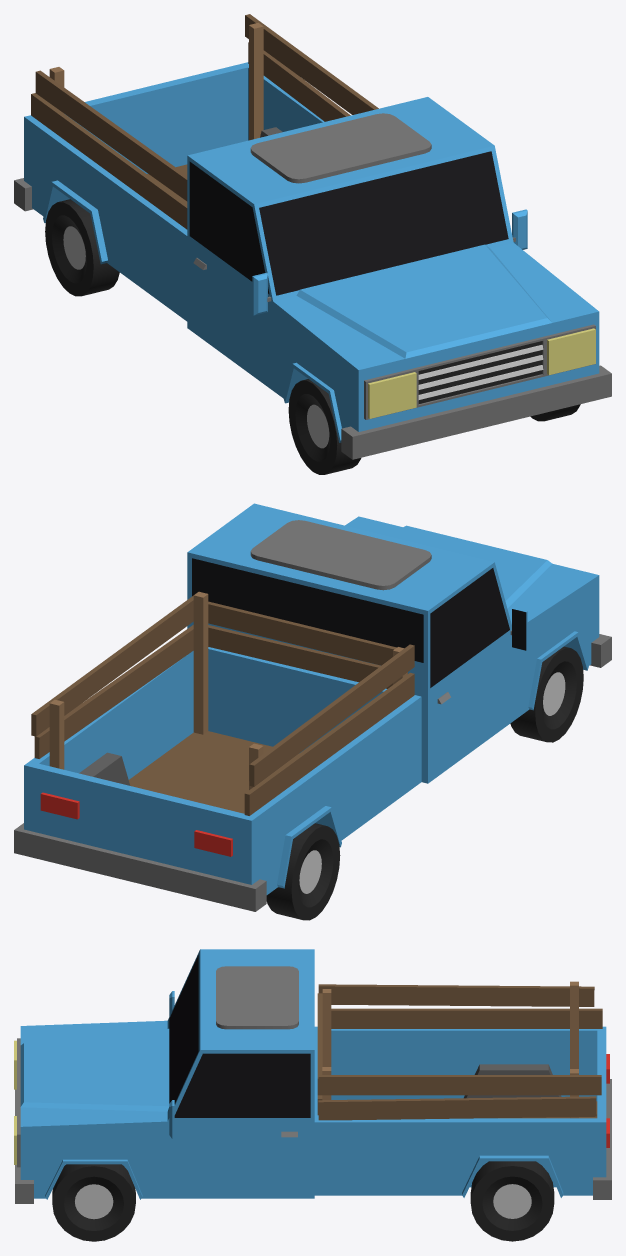
Rendered from Pickup_02.fbx.
3 renders of one model, top to bottom at view 1: azimuth 30°, elevation 25°; view 2: azimuth 150°, elevation 25°; view 3: azimuth 270°, elevation 25°, orthographic. The views are drawn at different scales.
Parts seen in each view (by area): view 1: Pickup_02, Pickup_02_Wooden_Bed; view 2: Pickup_02, Pickup_02_Wooden_Bed; view 3: Pickup_02, Pickup_02_Wooden_Bed.
Part boxes in pixels (box(x1,y1,x2,y2)): Pickup_02: box(14, 62, 611, 474); Pickup_02_Wooden_Bed: box(31, 14, 378, 229); Pickup_02: box(14, 503, 611, 920); Pickup_02_Wooden_Bed: box(31, 591, 414, 815); Pickup_02: box(14, 949, 611, 1241); Pickup_02_Wooden_Bed: box(317, 981, 602, 1120).
Bounding box in the file's own units: 2.97 × 2.34 × 6.53.
